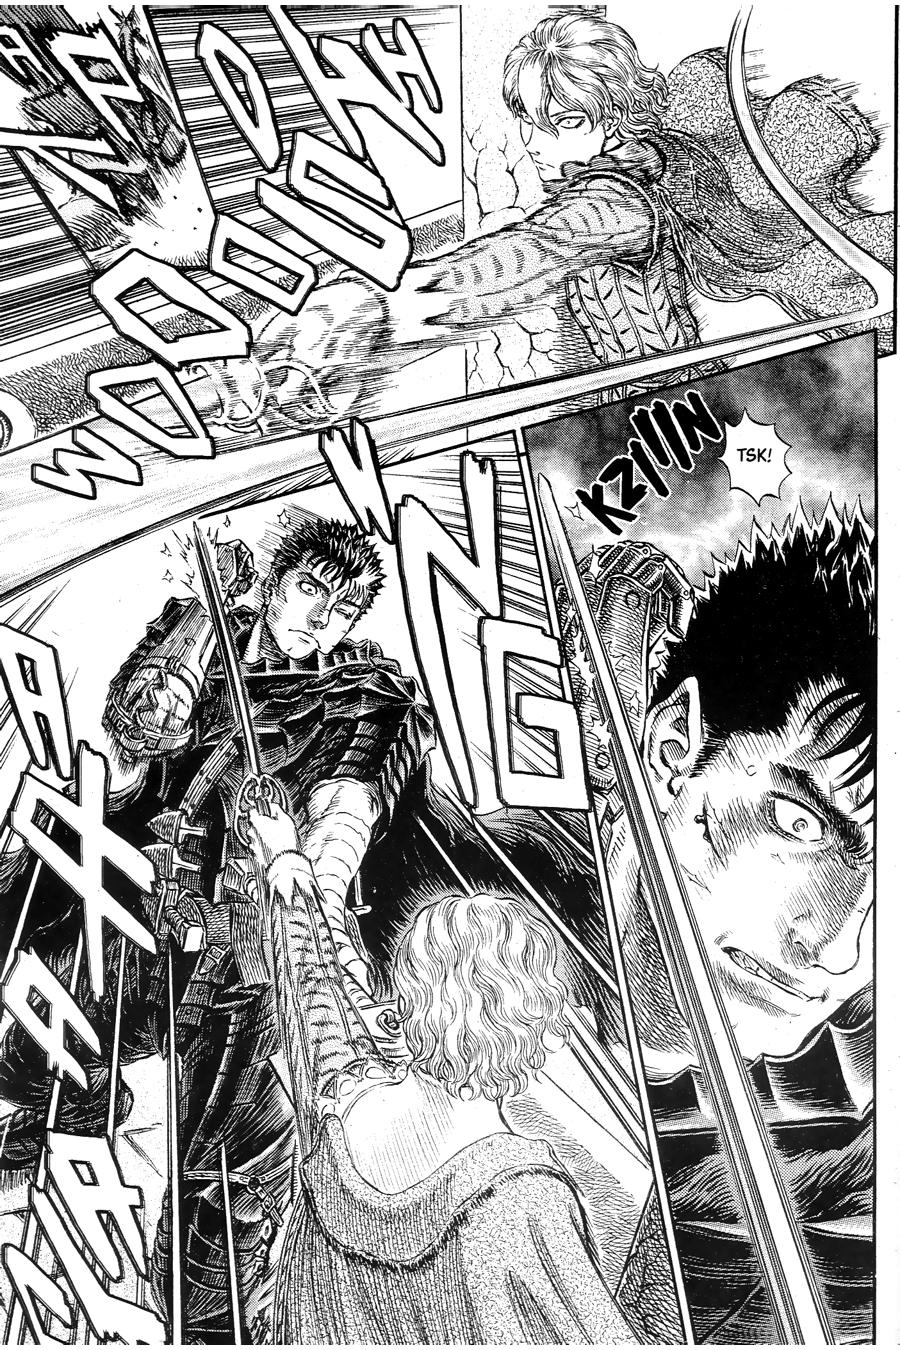Baloon: (718, 407, 798, 517)
Vignetta: (4, 428, 691, 1346), (1, 9, 899, 514), (522, 332, 874, 1350)
